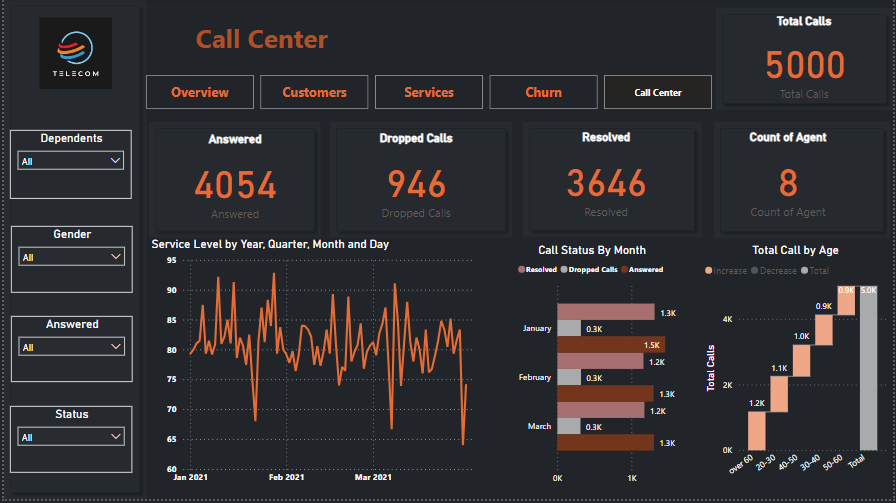

Layout of this report page (visuals, bound fields, positions):
{"tool":"powerbi","page":{"name":"Call Center","canvas":[1280,720],"ordinal":4},"visuals":[{"type":"shape","box":[0,0,205.1,719.8],"z":0},{"type":"slicer","title":"Dependents","fields":{"Values":["Dim_Customers.Dependents"]},"box":[9.2,188.5,175.4,99.5],"z":1000},{"type":"slicer","title":"Gender ","fields":{"Values":["Dim_Customers.Gender"]},"box":[9.6,327.6,174.8,96.3],"z":2000},{"type":"slicer","title":"Answered","fields":{"Values":["Dim_Calls.Answered"]},"box":[9.6,456.9,174.8,95],"z":3000},{"type":"image","box":[31.4,22.3,142.7,112.6],"z":4000},{"type":"textbox","box":[217.5,26.2,306.9,75.7],"z":5000},{"type":"pageNavigator","box":[205.1,110.1,817.5,49.5],"z":6000},{"type":"shape","box":[1022,176.9,253.7,166.7],"z":7000},{"type":"shape","box":[208.1,176.7,247.4,166.3],"z":8000},{"type":"shape","box":[748,176.9,256.6,165.3],"z":9000},{"type":"shape","box":[470,176.7,261.8,166.3],"z":10000},{"type":"card","title":"Answered","fields":{"Values":["Measure.Answered"]},"box":[228.5,191.3,207.8,139],"z":11000},{"type":"card","title":"Resolved","fields":{"Values":["Measure.Resolved"]},"box":[762.5,188.6,207.8,139],"z":12000},{"type":"card","title":"Count of Agent","fields":{"Values":["Count(Dim_Calls.Agent)"]},"box":[1025.4,188.6,207.8,139],"z":13000},{"type":"shape","box":[1025.4,12.4,254.6,147.3],"z":14000},{"type":"card","title":"Dropped Calls","fields":{"Values":["Measure.Dropped Calls"]},"box":[490,189.9,207.8,139],"z":15000},{"type":"card","title":"Total Calls","fields":{"Values":["Measure.Total Calls"]},"box":[1048.8,22,207.8,133.5],"z":16000},{"type":"lineChart","fields":{"Y":["Measure.Service Level"],"Category":["Dim_Calls.Date_Of_Call.Variation.Date Hierarchy.Year","Dim_Calls.Date_Of_Call.Variation.Date Hierarchy.Quarter","Dim_Calls.Date_Of_Call.Variation.Date Hierarchy.Month","Dim_Calls.Date_Of_Call.Variation.Date Hierarchy.Day"]},"box":[207.8,342.7,490,377.1],"z":17000},{"type":"clusteredBarChart","title":"Call Status By Month","fields":{"Category":["Dim_Calls.Date_Of_Call.Variation.Date Hierarchy.Month"],"Y":["Measure.Resolved","Measure.Dropped Calls","Measure.Answered"]},"box":[710.2,351,273.9,368.9],"z":18000},{"type":"waterfallChart","title":"Total Call  by Age","fields":{"Category":["Dim_Customers.Age_Group"],"Y":["Measure.Total Calls"]},"box":[1003.4,351,272.5,368.9],"z":19000},{"type":"slicer","title":"Status","fields":{"Values":["Fact_TelecomChurn.Status"]},"box":[8.3,586.3,176.2,96.3],"z":20000}]}

Visuals, with their boxes in screenshot pixels (x1, y1, x2, y2), scaled from the page's 1280x720 canvas onto the 896x503 screenshot:
shape: left=0, top=0, right=144, bottom=502
"Dependents" slicer: left=6, top=132, right=129, bottom=201
"Gender " slicer: left=7, top=229, right=129, bottom=296
"Answered" slicer: left=7, top=319, right=129, bottom=386
image: left=22, top=16, right=122, bottom=94
textbox: left=152, top=18, right=367, bottom=71
pageNavigator: left=144, top=77, right=716, bottom=111
shape: left=715, top=124, right=893, bottom=240
shape: left=146, top=123, right=319, bottom=240
shape: left=524, top=124, right=703, bottom=239
shape: left=329, top=123, right=512, bottom=240
"Answered" card: left=160, top=134, right=305, bottom=231
"Resolved" card: left=534, top=132, right=679, bottom=229
"Count of Agent" card: left=718, top=132, right=863, bottom=229
shape: left=718, top=9, right=895, bottom=112
"Dropped Calls" card: left=343, top=133, right=488, bottom=230
"Total Calls" card: left=734, top=15, right=880, bottom=109
lineChart - Measure.Service Level x Dim_Calls.Date_Of_Call.Variation.Date Hierarchy.Year: left=145, top=239, right=488, bottom=502
"Call Status By Month" clusteredBarChart: left=497, top=245, right=689, bottom=502
"Total Call  by Age" waterfallChart: left=702, top=245, right=893, bottom=502
"Status" slicer: left=6, top=410, right=129, bottom=477
